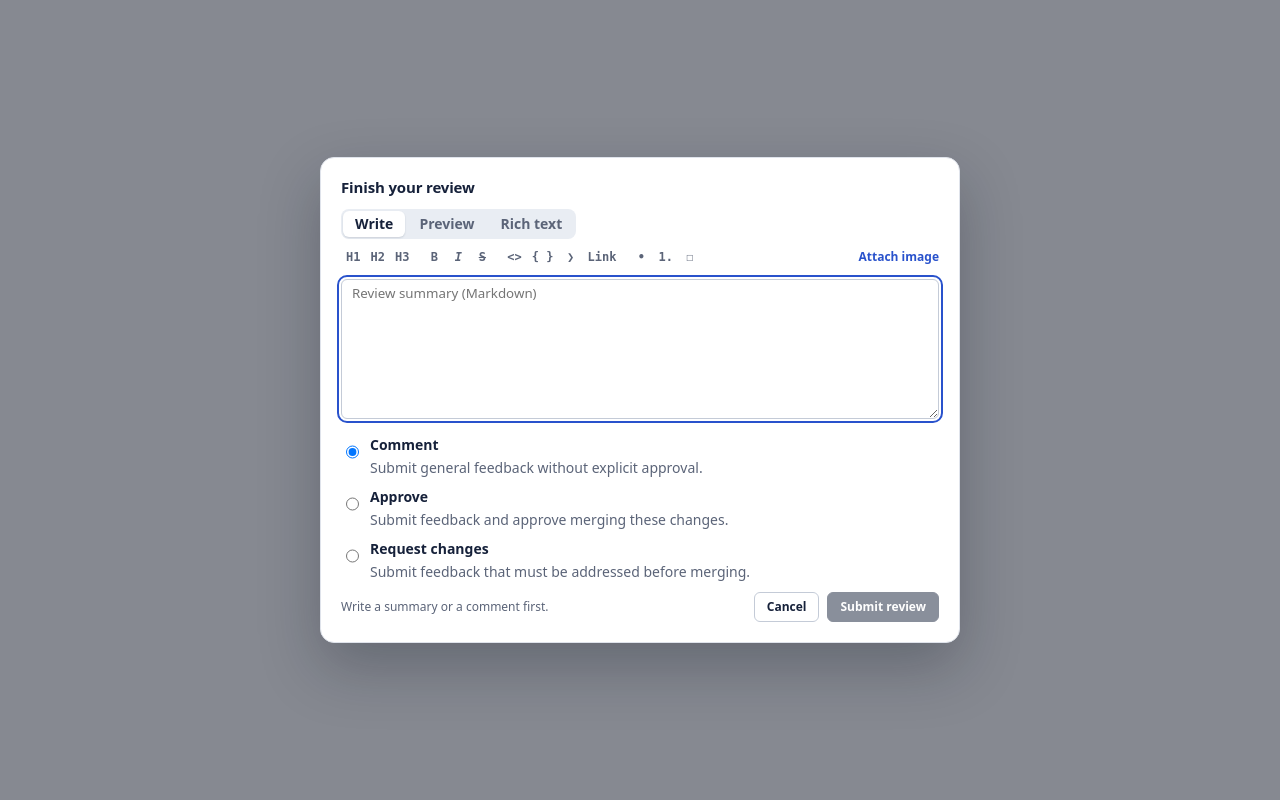
Test: SubmitReviewDialog › shows the error and keeps the summary when GitHub refuses
Type "Please rename it" into the text box labelled "Review summary (Markdown)" at coordinates (640, 349), box [341,279,939,419]
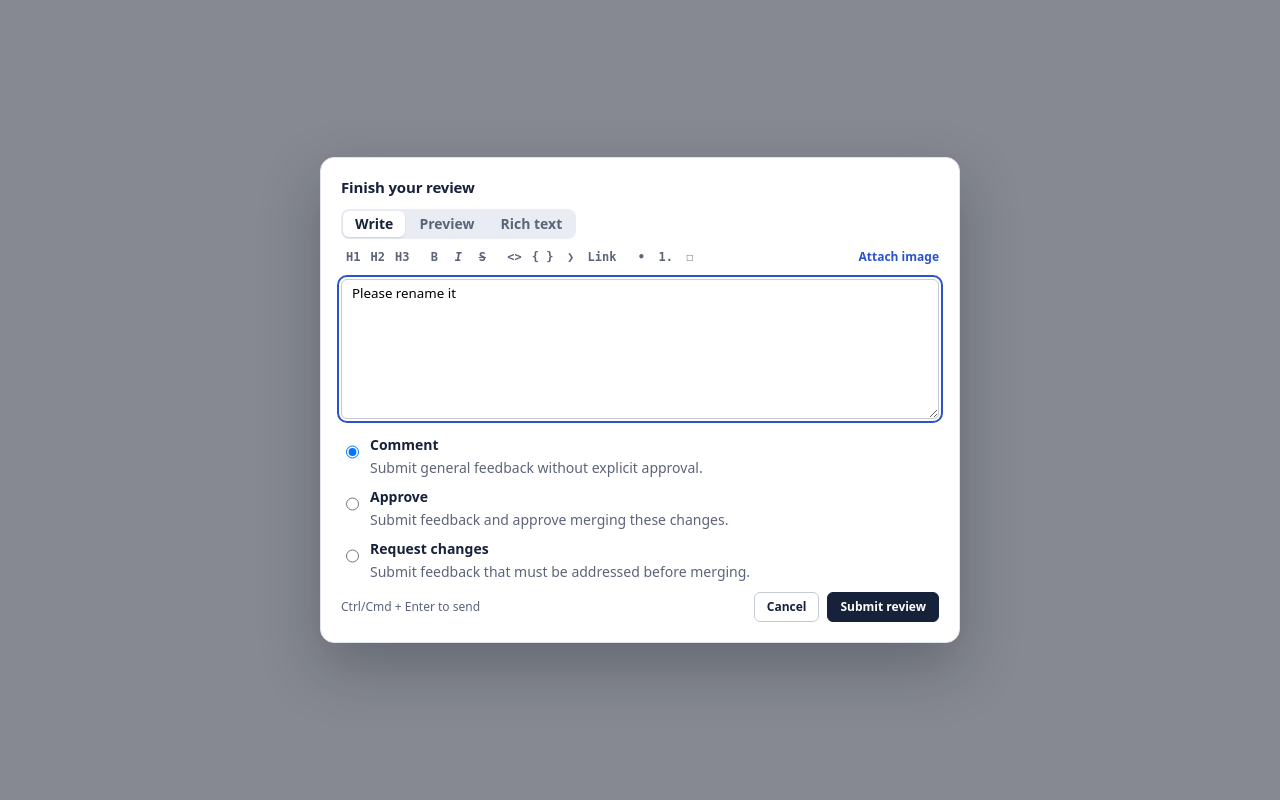
Click the radio button labelled "Request changes" at coordinates (352, 556), box [346,541,359,571]
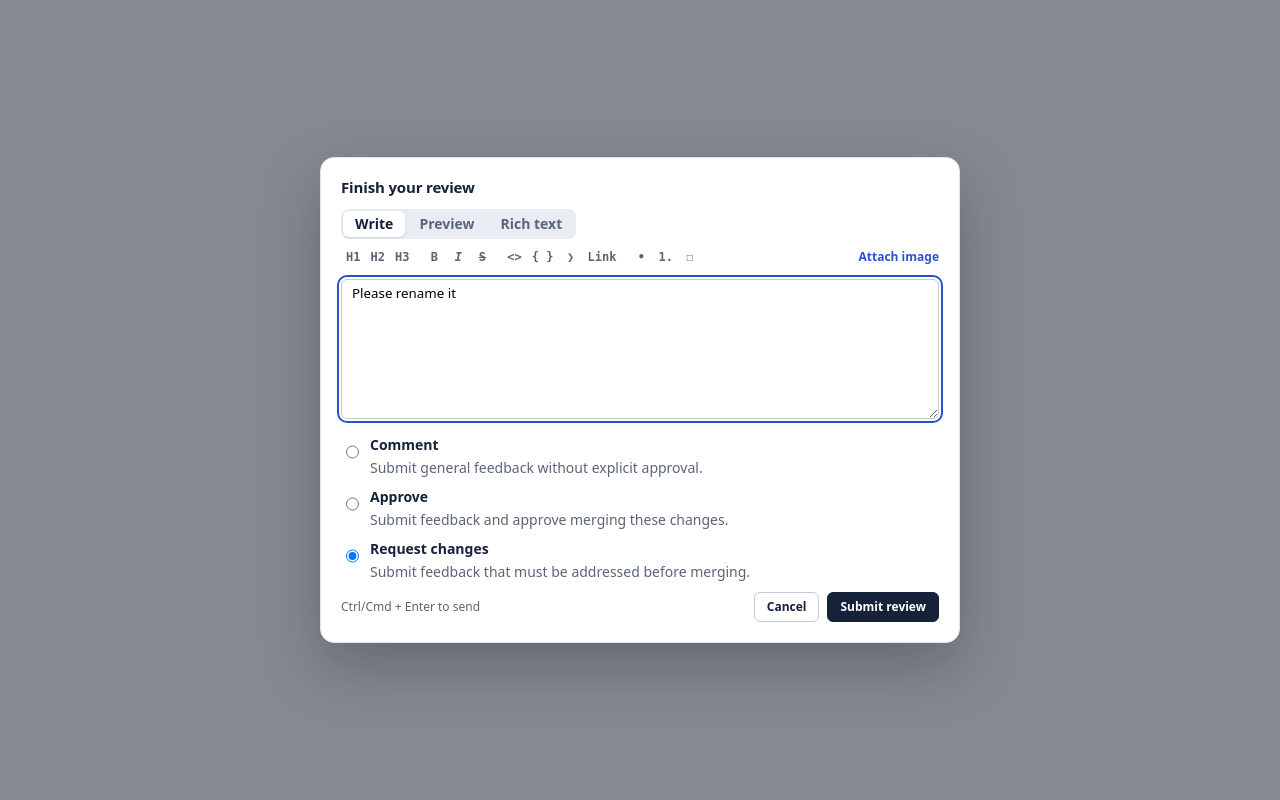
Click the button "Submit review" at coordinates (883, 607), box [828,592,939,622]
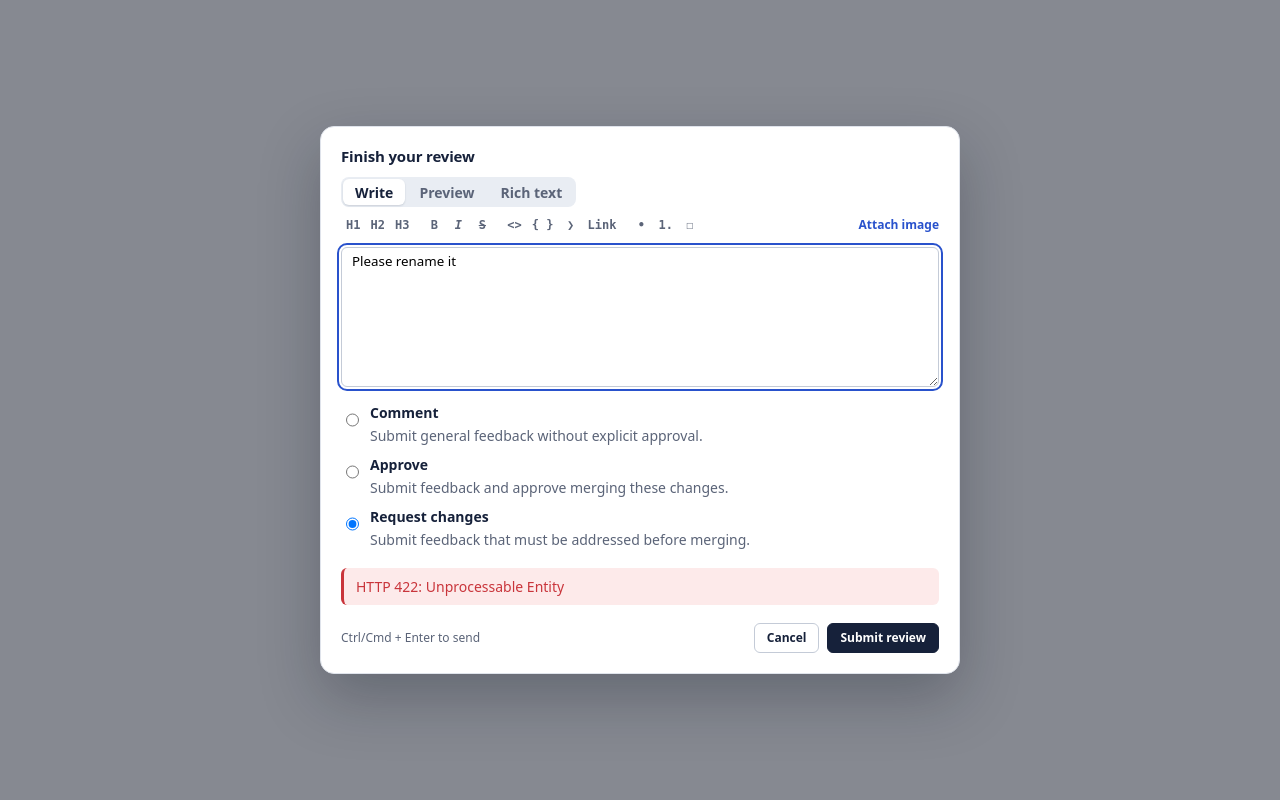
expect the message reads "HTTP 422: Unprocessable Entity": met, box [356,577,564,596]
